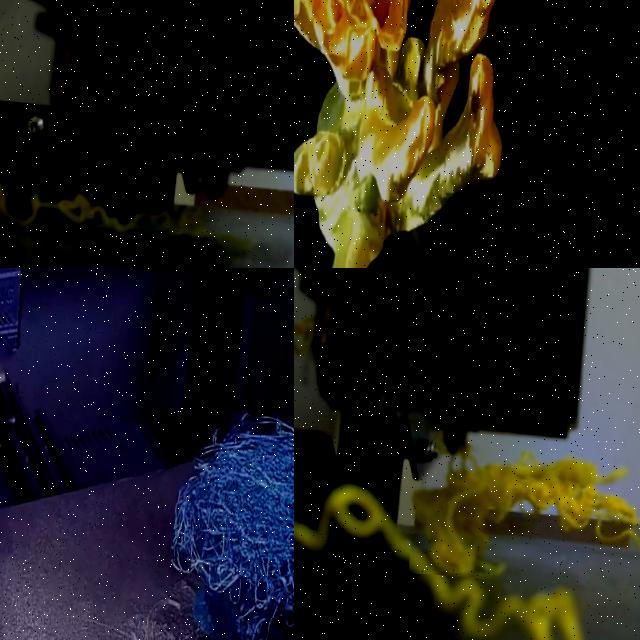spaghetti: (171, 412, 294, 640), (413, 453, 640, 576), (0, 182, 204, 239)
